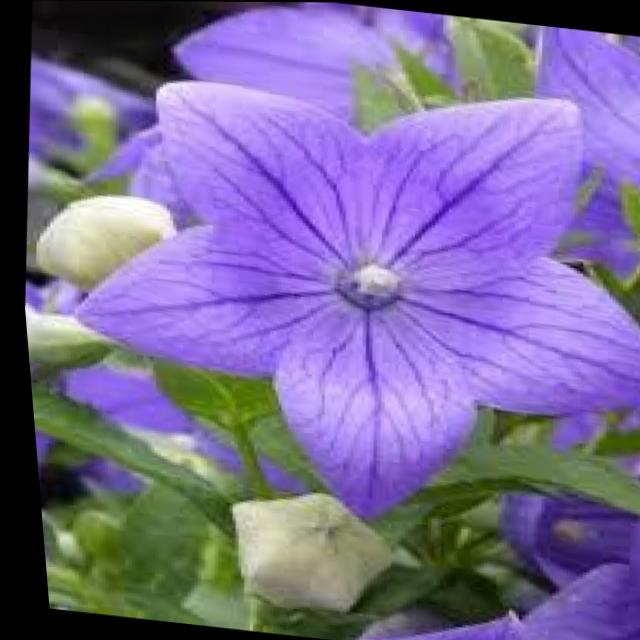Flower: (21, 42, 640, 528)
